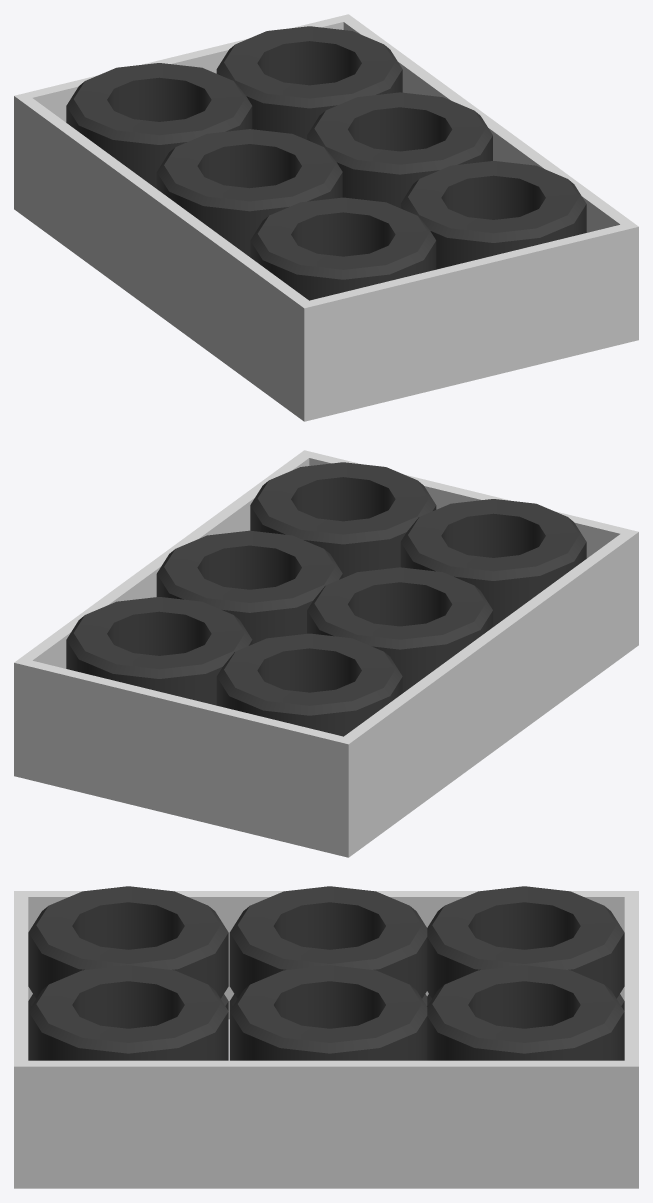
File: TireWall_2_B.fbx
3 views of the same model, one above another, from view 1: azimuth 30°, elevation 25°; view 2: azimuth 150°, elevation 25°; view 3: azimuth 270°, elevation 25° (orthographic). The views are drawn at different scales.
Visible parts, largest first — view 1: TireWall_2_B; view 2: TireWall_2_B; view 3: TireWall_2_B.
Part boxes in pixels (x1,y1,x2,y2): TireWall_2_B: [14, 14, 638, 421]; TireWall_2_B: [14, 450, 638, 857]; TireWall_2_B: [14, 886, 638, 1188].
Bounding box in the file's own units: 182 × 66.08 × 273.
